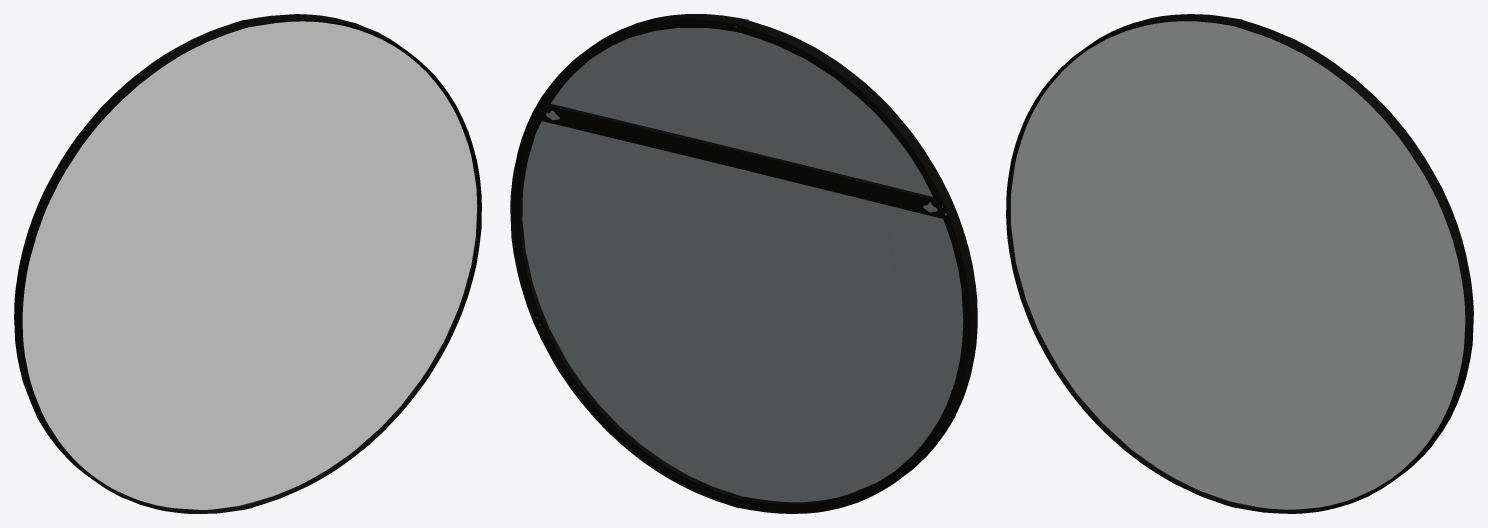
The picture shows the model from 3 angles, left to right: view 1: azimuth 30°, elevation 25°; view 2: azimuth 150°, elevation 25°; view 3: azimuth 330°, elevation 25°; orthographic projection.
Parts seen in each view (by area): view 1: ASY_ART_50458614_S01_NV01; view 2: ASY_ART_50458614_S01_NV01; view 3: ASY_ART_50458614_S01_NV01.
Boxes of the visible parts, left/top/right/bottom form: ASY_ART_50458614_S01_NV01: left=14, top=14, right=481, bottom=513; ASY_ART_50458614_S01_NV01: left=510, top=14, right=977, bottom=513; ASY_ART_50458614_S01_NV01: left=1006, top=14, right=1473, bottom=513.
Bounding box in the file's own units: 0.7981 × 0.8001 × 0.025.
Materials: 2 (2 with a texture image).
